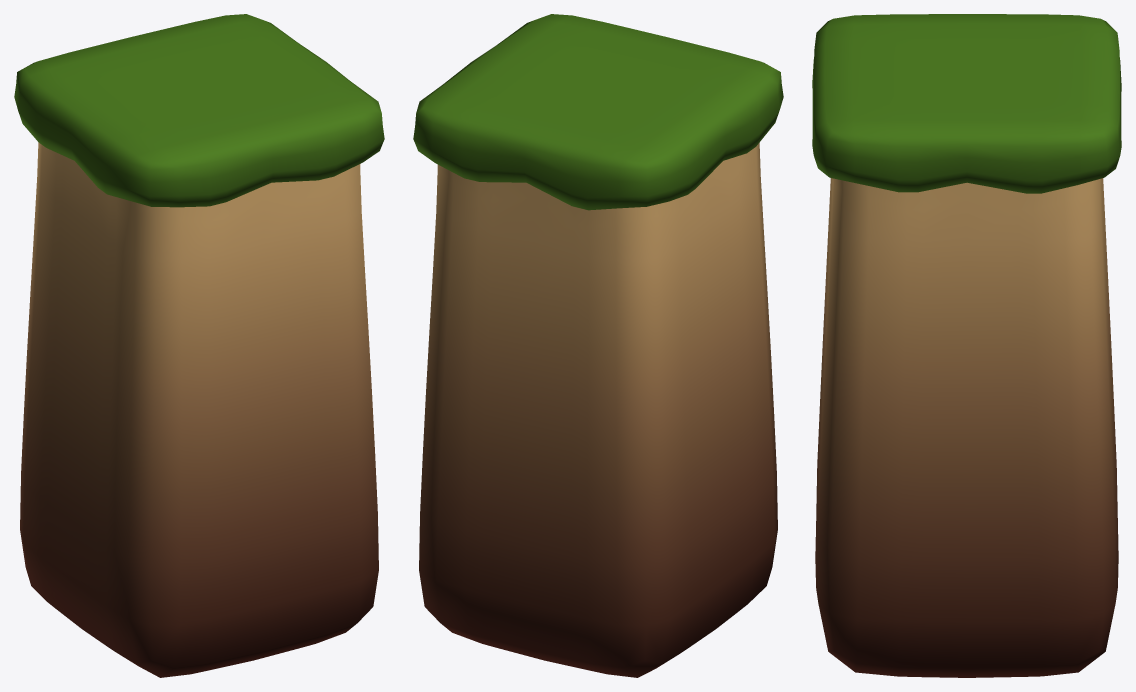
File: TileGreen_3x4m.fbx
3 views of the same model, side by side, from view 1: azimuth 30°, elevation 25°; view 2: azimuth 150°, elevation 25°; view 3: azimuth 270°, elevation 25° (orthographic). The views are drawn at different scales.
Visible parts, largest first — view 1: TileGreen_3x4m; view 2: TileGreen_3x4m; view 3: TileGreen_3x4m.
Part boxes in pixels (bbox=[...]): TileGreen_3x4m: bbox=[14, 14, 384, 677]; TileGreen_3x4m: bbox=[413, 14, 783, 677]; TileGreen_3x4m: bbox=[812, 14, 1121, 677].
Size of the model in its own units: 2 by 4 by 2.
